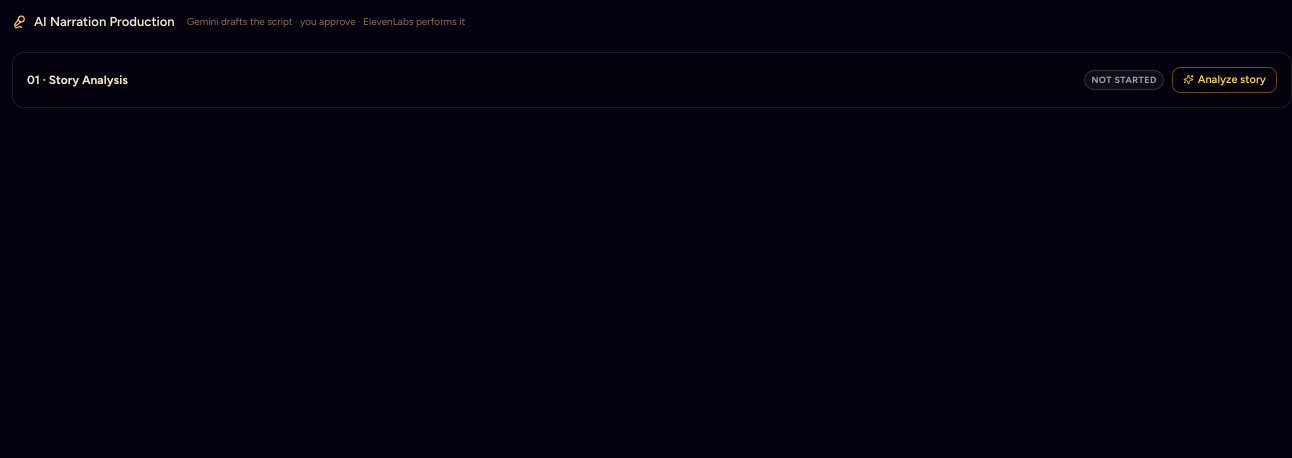
Scenario: clicking Analyze story calls runStoryAnalysis and renders the returned summary + scene timeline
Click the button with test id "voice-run-story-analysis".
click(1224, 80)  # box left=1172, top=66, right=1277, bottom=93
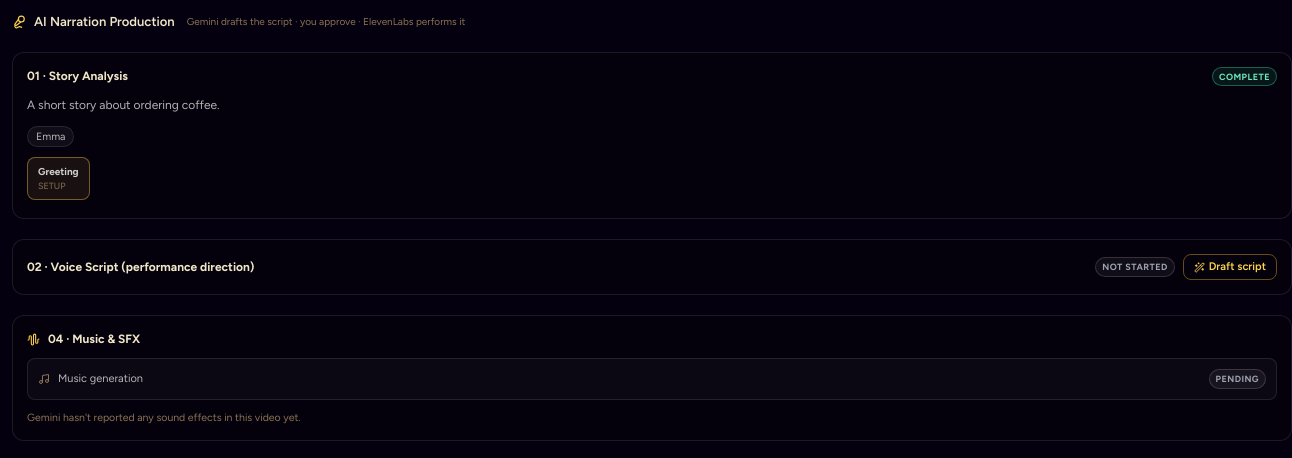
Result: the text "A short story about ordering coffee." is shown at left=27, top=98, right=220, bottom=112
Result: the button with test id "voice-scene-sc_1" is shown at left=27, top=157, right=90, bottom=200
